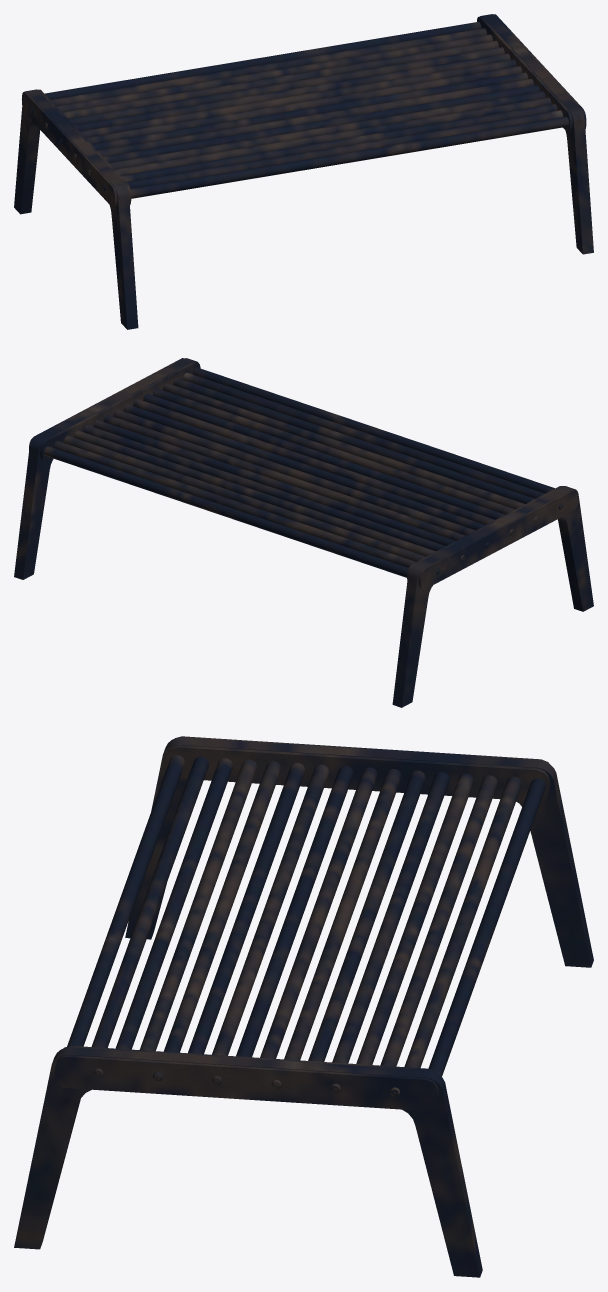
File: tj_bench_metal.fbx
The picture shows the model from 3 angles, top to bottom: view 1: azimuth 30°, elevation 25°; view 2: azimuth 150°, elevation 25°; view 3: azimuth 270°, elevation 25°; orthographic projection. The views are drawn at different scales.
Visible parts, largest first — view 1: tj_bench_metal_LOD0; view 2: tj_bench_metal_LOD0; view 3: tj_bench_metal_LOD0.
Part boxes in pixels (left/top/right/bottom): tj_bench_metal_LOD0: left=14, top=14, right=593, bottom=329; tj_bench_metal_LOD0: left=14, top=358, right=593, bottom=707; tj_bench_metal_LOD0: left=14, top=736, right=593, bottom=1277.
Size of what is drawn, in the model's own units: 2.03 by 0.5347 by 1.43.
1 material, 1 textured.
